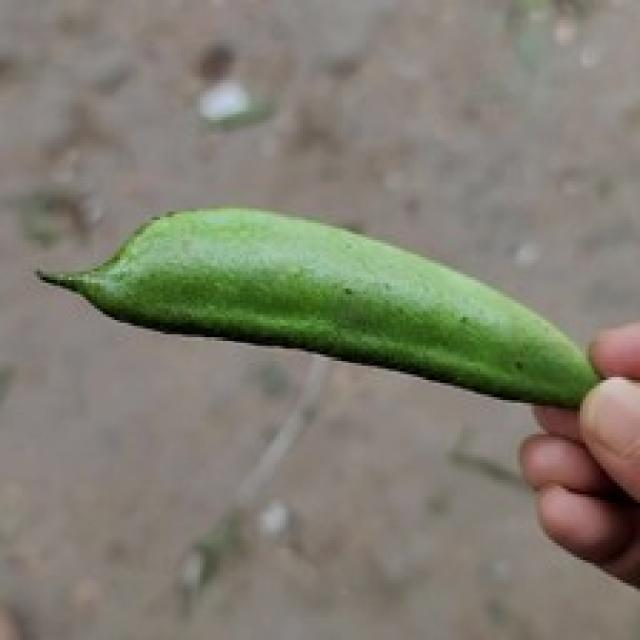Bean: (34, 203, 603, 411)
